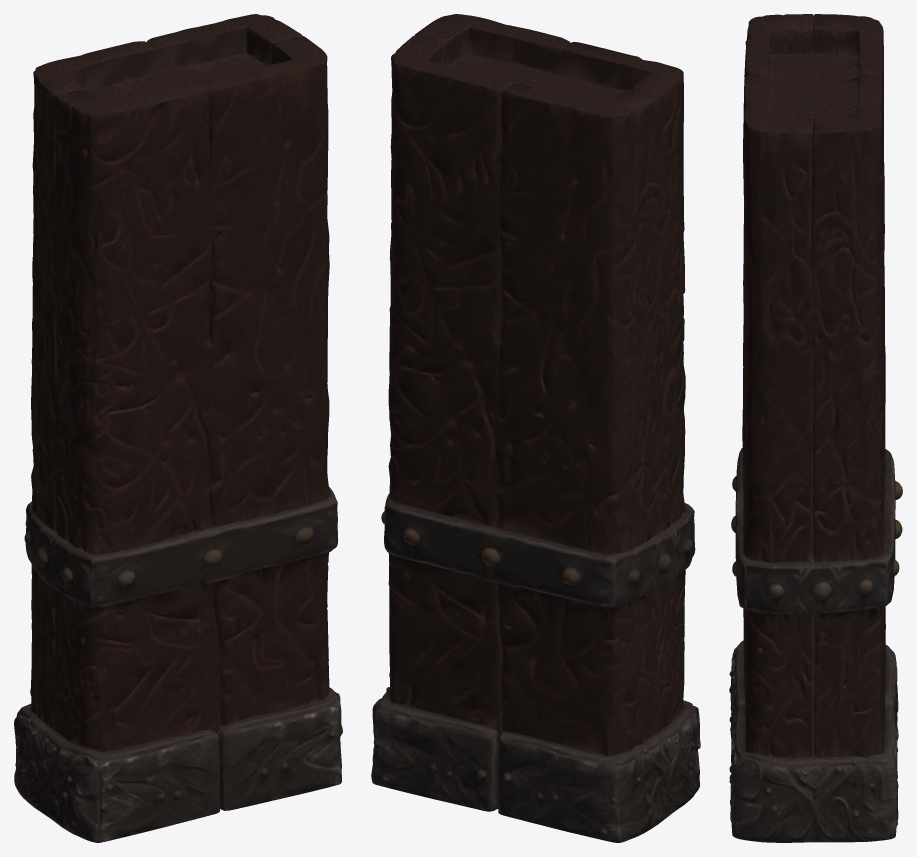
File: cleaned.glb
3 views of the same model, side by side, from view 1: azimuth 30°, elevation 25°; view 2: azimuth 150°, elevation 25°; view 3: azimuth 270°, elevation 25° (orthographic).
Parts seen in each view (by area): view 1: column lantern bronze body; view 2: column lantern bronze body; view 3: column lantern bronze body.
Part boxes in pixels (box(x1,y1,x2,y2)): column lantern bronze body: box(14, 14, 342, 842); column lantern bronze body: box(371, 14, 700, 842); column lantern bronze body: box(729, 14, 902, 842).
Bounding box in the file's own units: 0.4009 × 1 × 0.2229.
Materials: 1 (1 with a texture image).
